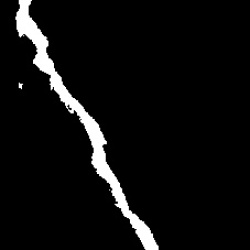crack: (14, 1, 159, 248)
pinhole: (19, 84, 23, 89)
